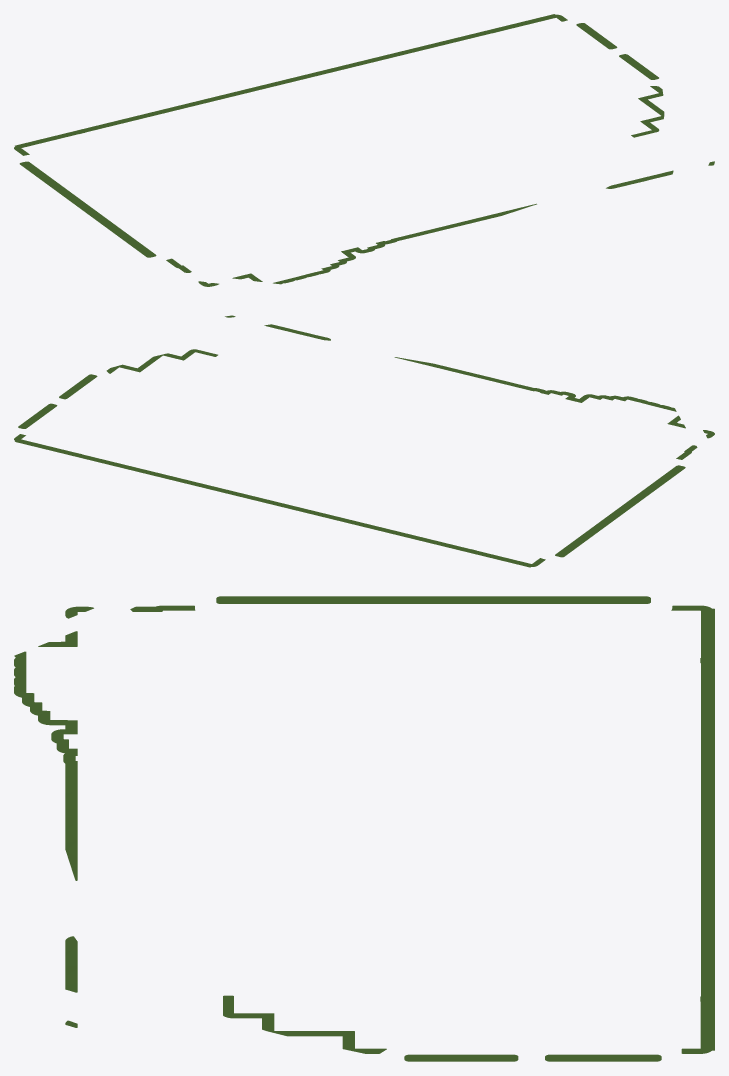
The model's file is SM_MPRLG_CampusGreen.fbx.
The picture shows the model from 3 angles, top to bottom: view 1: azimuth 30°, elevation 25°; view 2: azimuth 150°, elevation 25°; view 3: azimuth 270°, elevation 25°; orthographic projection. The views are drawn at different scales.
Visible parts, largest first — view 1: SM_MPRLG_CampusGreen; view 2: SM_MPRLG_CampusGreen; view 3: SM_MPRLG_CampusGreen.
Boxes of the visible parts, <box> form: SM_MPRLG_CampusGreen: <box>14,14,714,286</box>; SM_MPRLG_CampusGreen: <box>14,315,714,567</box>; SM_MPRLG_CampusGreen: <box>14,596,714,1061</box>.
Size of the model in its own units: 41530 by 26439 by 127.
